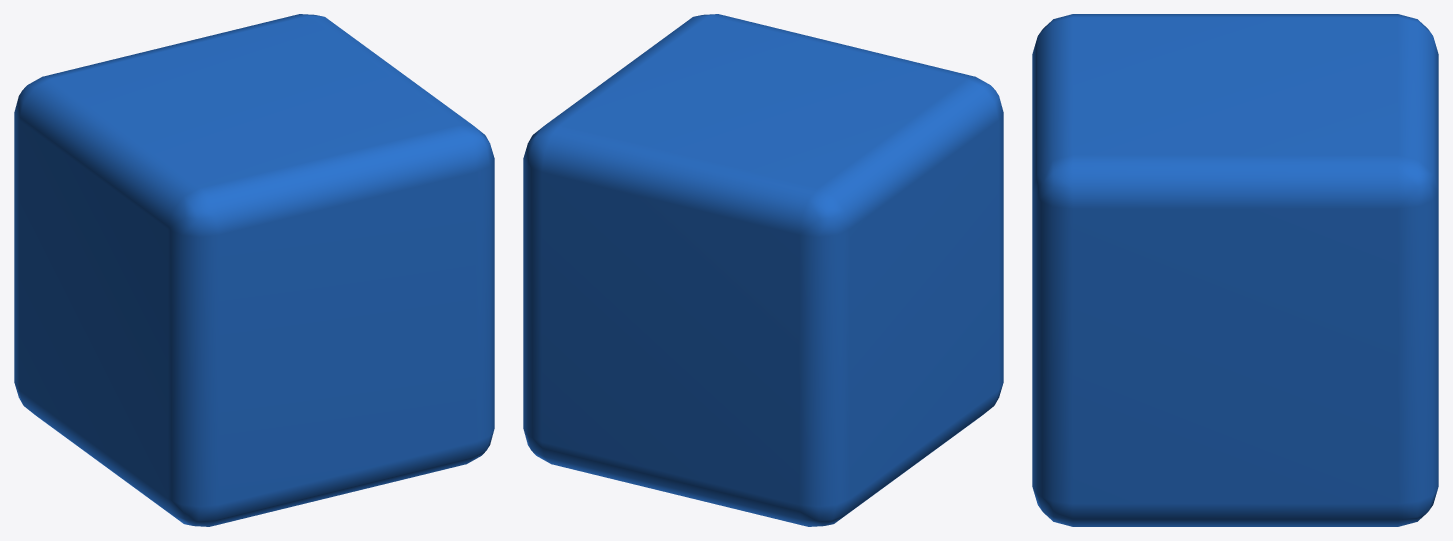
File: SM_GrabBlock.fbx
3 views of the same model, side by side, from view 1: azimuth 30°, elevation 25°; view 2: azimuth 150°, elevation 25°; view 3: azimuth 270°, elevation 25° (orthographic). The views are drawn at different scales.
Parts seen in each view (by area): view 1: SM_GrabBlock; view 2: SM_GrabBlock; view 3: SM_GrabBlock.
Boxes of the visible parts, box(x1,y1,x2,y2) form: SM_GrabBlock: box(14, 14, 494, 526); SM_GrabBlock: box(523, 14, 1003, 526); SM_GrabBlock: box(1032, 14, 1438, 526).
Bounding box in the file's own units: 0.12 × 0.12 × 0.12.
